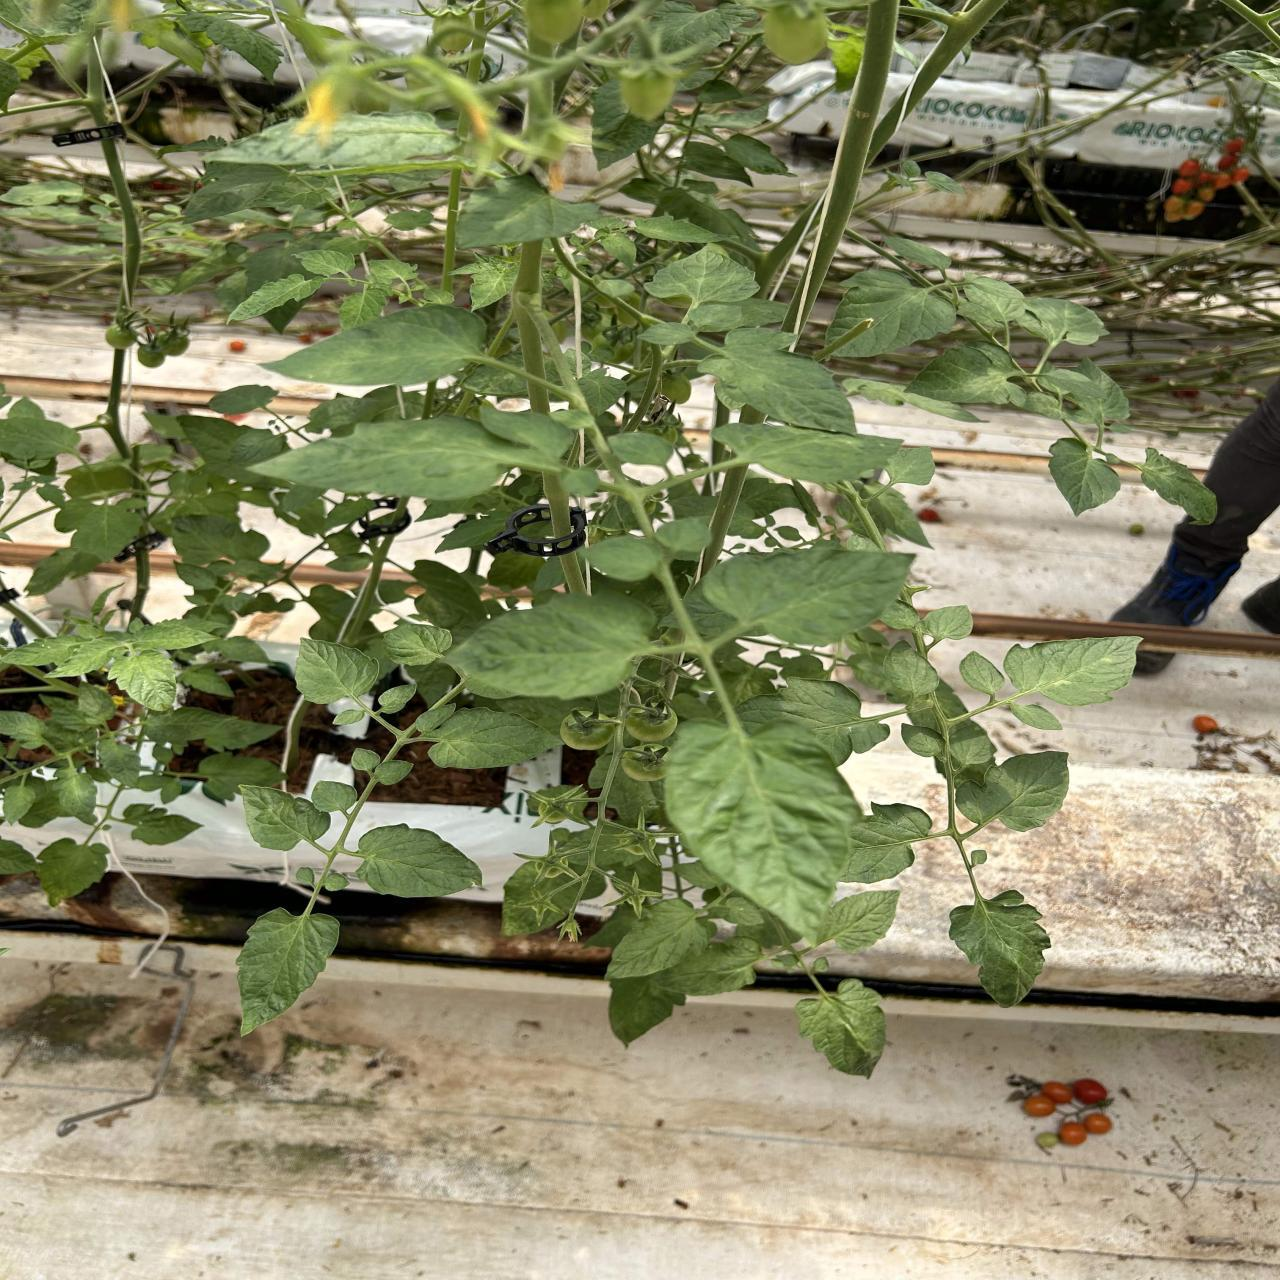Flor: (407, 57, 502, 156), (275, 62, 367, 149)
Hoja: (663, 722, 860, 935), (257, 408, 600, 501), (447, 595, 653, 697), (700, 545, 910, 645), (264, 305, 486, 384), (696, 327, 857, 433), (206, 113, 457, 168), (734, 678, 890, 765), (237, 907, 340, 1035), (949, 890, 1050, 1008), (825, 270, 956, 358), (714, 422, 900, 483), (457, 175, 600, 247), (355, 823, 482, 898), (1003, 638, 1141, 704), (956, 753, 1070, 832), (607, 898, 721, 978), (423, 707, 565, 770), (797, 978, 886, 1077), (903, 340, 1027, 406), (840, 802, 933, 883), (647, 245, 760, 307), (656, 938, 763, 995), (240, 785, 331, 850), (1141, 448, 1217, 523), (1048, 437, 1121, 515), (297, 638, 380, 704), (1064, 358, 1135, 434), (817, 890, 900, 953), (1016, 298, 1107, 353), (584, 535, 663, 580), (964, 271, 1023, 324), (383, 622, 454, 665), (884, 642, 940, 695), (656, 517, 710, 560), (610, 433, 673, 465), (884, 238, 949, 270), (1043, 368, 1108, 400), (919, 605, 973, 642), (960, 653, 1003, 697), (949, 726, 996, 765), (683, 302, 743, 333), (956, 297, 1006, 329), (1007, 702, 1063, 730), (900, 722, 944, 757), (311, 781, 356, 812), (640, 322, 696, 345), (1023, 392, 1068, 418), (416, 703, 456, 733), (880, 600, 920, 629), (373, 760, 414, 785), (380, 685, 416, 713), (350, 748, 380, 771), (597, 280, 633, 298), (322, 872, 350, 892), (332, 709, 366, 724), (295, 867, 313, 885), (971, 850, 987, 865), (1105, 454, 1121, 464)
Pedunculo: (779, 0, 900, 341), (488, 236, 668, 416), (539, 654, 660, 922), (880, 690, 1026, 897), (862, 0, 1007, 175), (585, 422, 747, 542), (644, 553, 748, 735), (476, 292, 597, 418), (715, 184, 828, 299), (302, 775, 376, 922), (762, 908, 830, 996), (543, 472, 587, 597), (350, 697, 434, 763), (828, 479, 893, 552), (424, 678, 464, 712), (913, 625, 927, 660), (710, 438, 726, 465), (703, 472, 720, 497), (715, 401, 729, 428), (898, 585, 913, 605)
Tomate: (566, 28, 713, 120), (735, 0, 881, 64), (600, 806, 682, 866), (513, 830, 580, 887), (560, 695, 620, 750), (601, 871, 668, 919), (520, 784, 588, 829), (523, 0, 587, 45), (625, 695, 676, 742), (511, 887, 566, 927), (620, 745, 667, 783)
